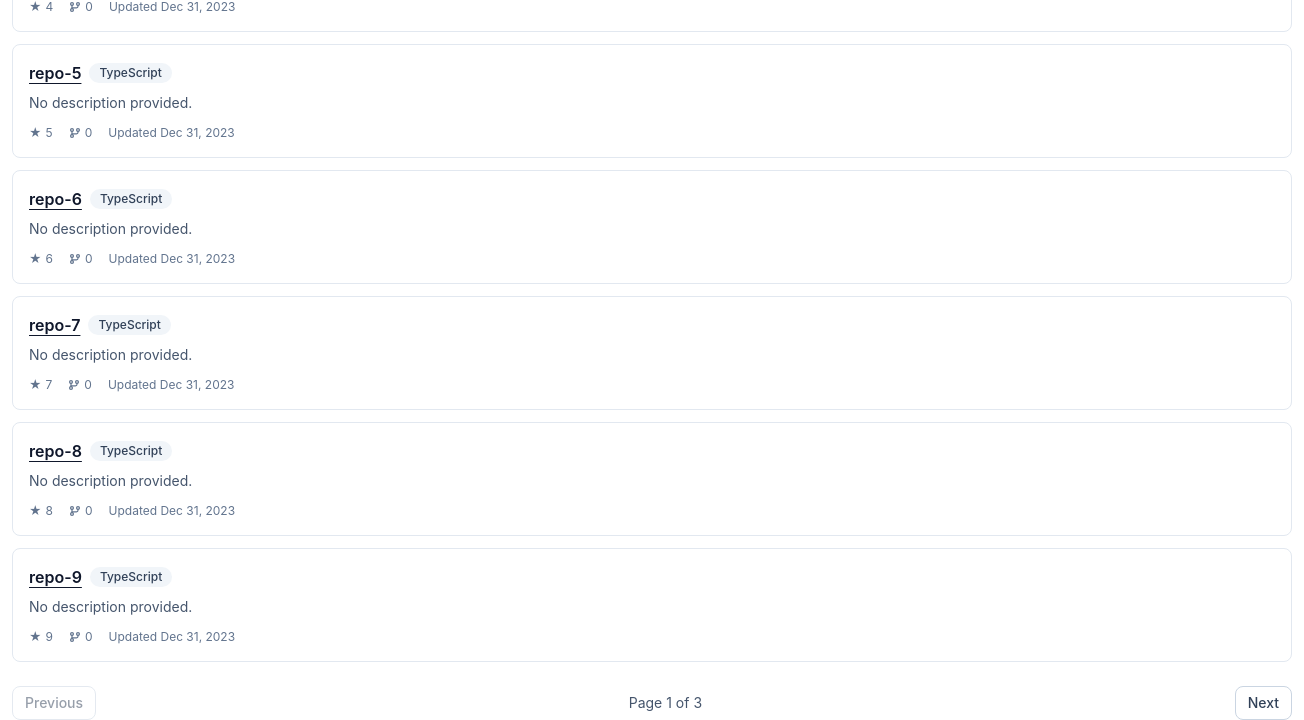
Test case: RepositoryExplorer › pagination › disables "Next" on the last page
(page scrolled)
What coordinates should you click on to do the following:
click the button "Next"
I would click on:
 (1263, 703)
Its box is [1235,686,1292,719].
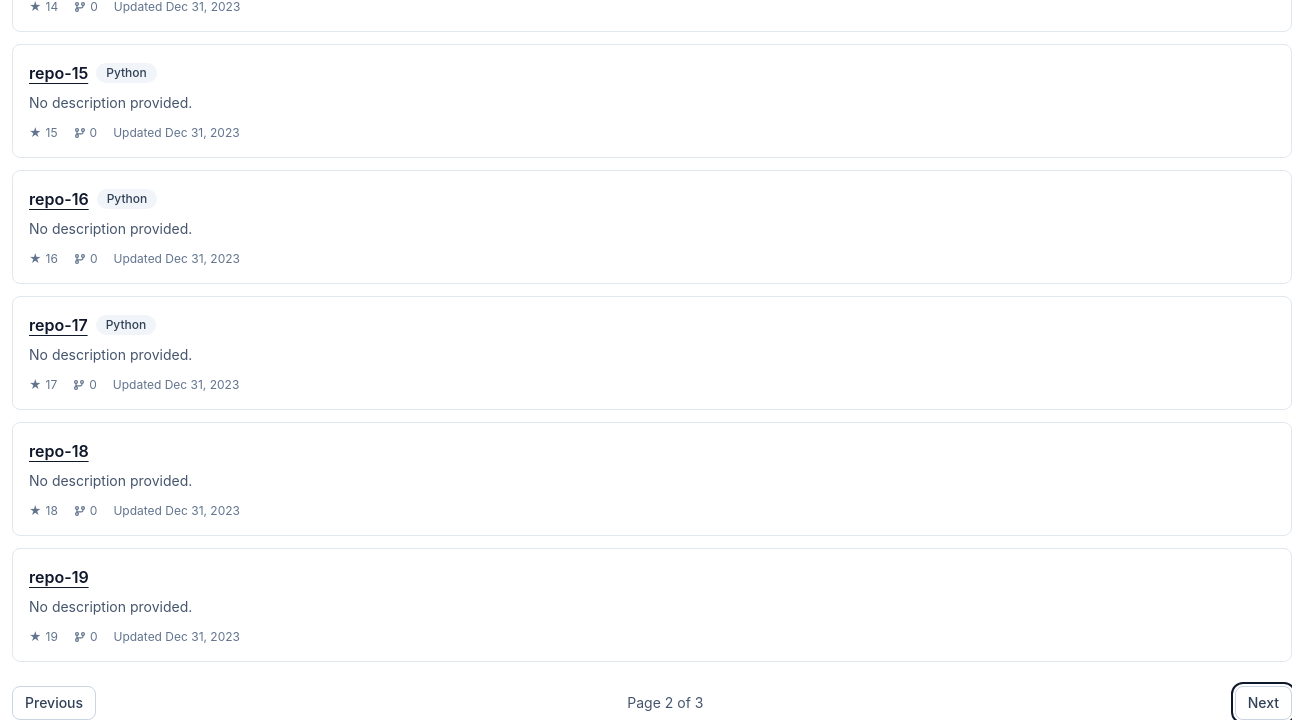
What coordinates should you click on to do the following:
click the button "Next"
I would click on:
 (1263, 703)
Its box is [1235,686,1292,719].
(page scrolled)
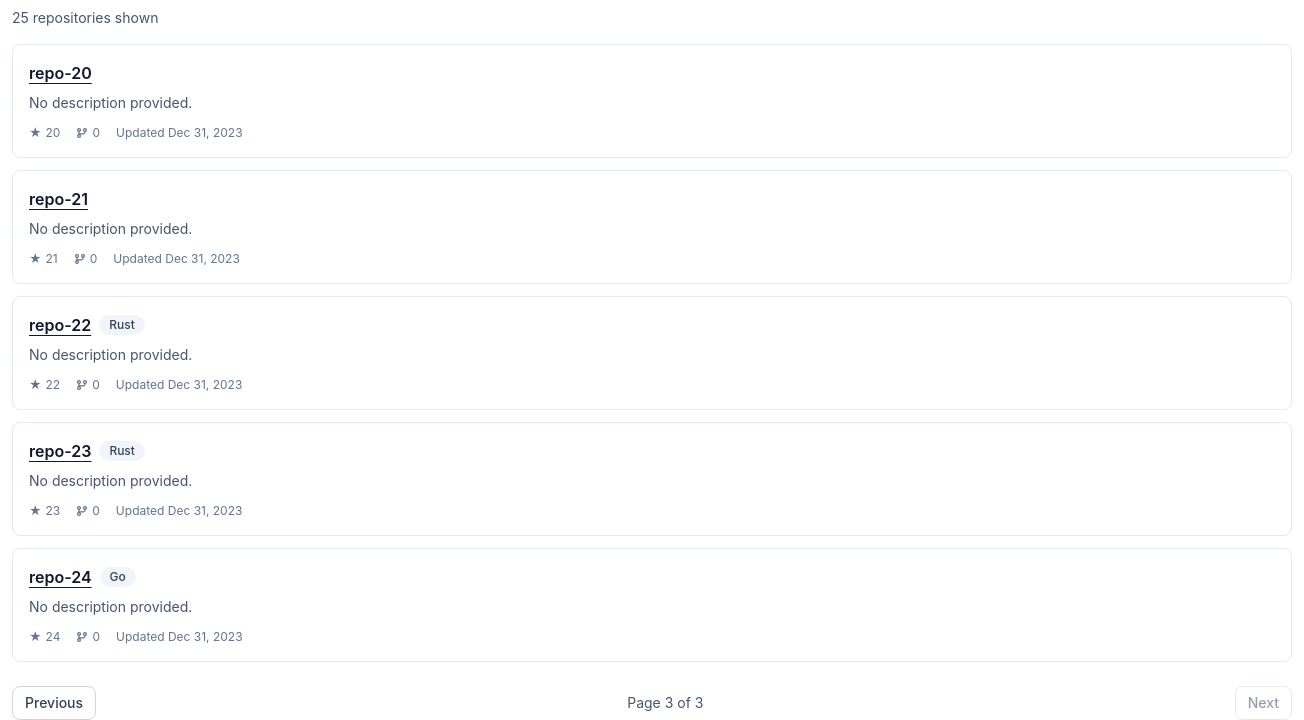
Expected: the button "Previous" is enabled, [12,686,96,719]
Expected: the text "Page 3 of 3" is shown, [627,693,704,713]
Expected: the button "Next" is disabled, [1235,686,1292,719]
